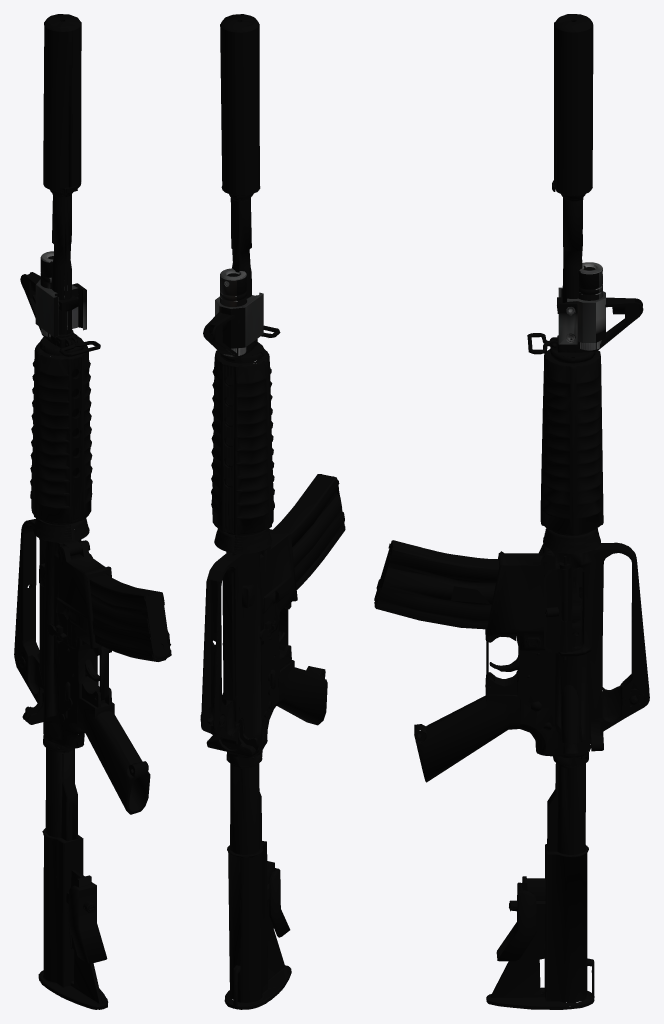
File: M4A1S__Light_Pistol.fbx
3 renders of one model, left to right at view 1: azimuth 30°, elevation 25°; view 2: azimuth 150°, elevation 25°; view 3: azimuth 270°, elevation 25°, orthographic. The views are drawn at different scales.
Parts seen in each view (by area): view 1: asset_M4A1S.001; view 2: asset_M4A1S.001; view 3: asset_M4A1S.001.
Boxes of the visible parts, box(x1,y1,x2,y2) form: asset_M4A1S.001: box(14, 14, 171, 1009); asset_M4A1S.001: box(200, 14, 345, 1009); asset_M4A1S.001: box(374, 14, 649, 1009).
Size of the model in its own units: 0.029 by 0.444 by 0.113.
